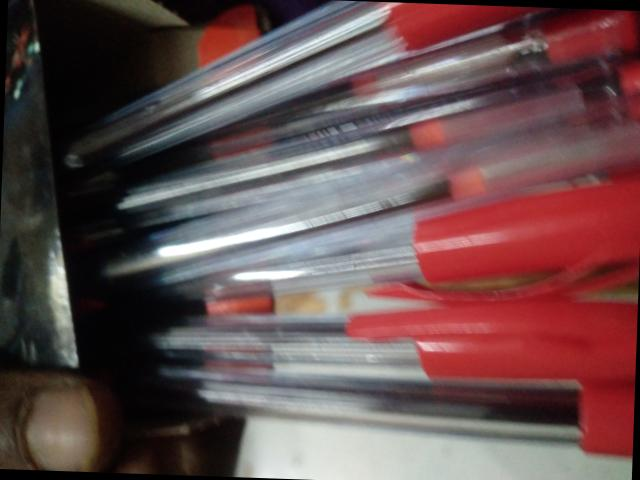PEN: (281, 64, 486, 480), (61, 160, 295, 479)
